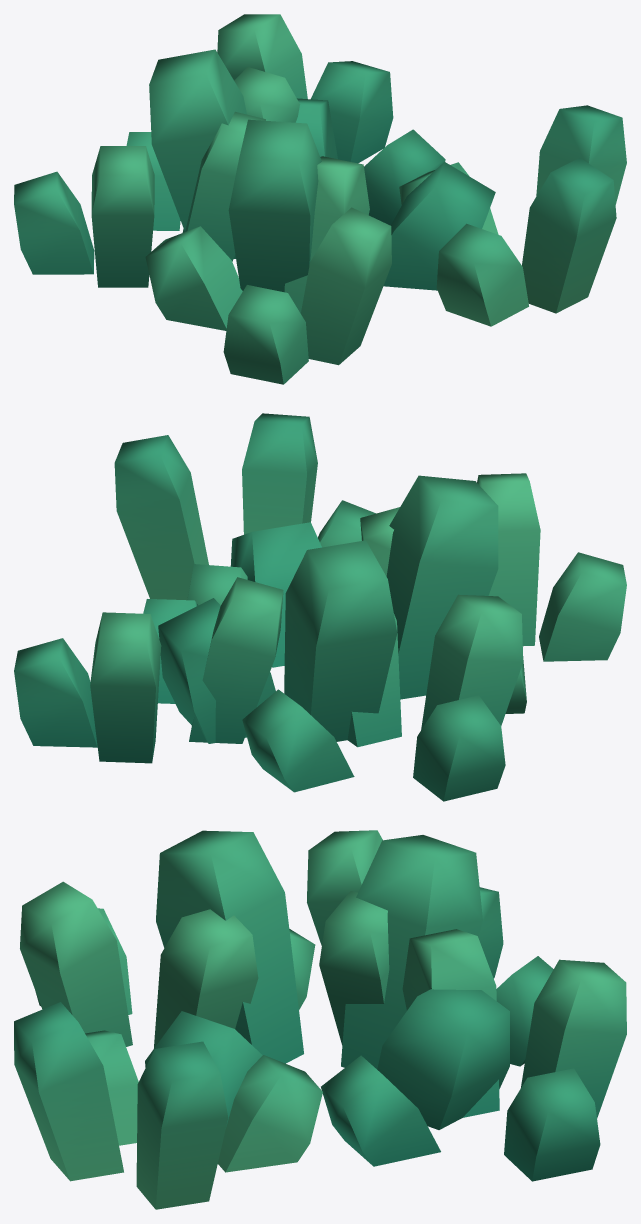
File: cc0-grass-patch-lod0.glb
The picture shows the model from 3 angles, top to bottom: view 1: azimuth 30°, elevation 25°; view 2: azimuth 150°, elevation 25°; view 3: azimuth 270°, elevation 25°; orthographic projection. The views are drawn at different scales.
Parts seen in each view (by area): view 1: part_0; view 2: part_0; view 3: part_0.
Boxes of the visible parts, left/top/right/bottom form: part_0: left=14, top=14, right=626, bottom=384; part_0: left=14, top=413, right=626, bottom=801; part_0: left=14, top=830, right=626, bottom=1209.
Bounding box in the file's own units: 1.31 × 0.4709 × 1.27.
Materials: 1 (1 with a texture image).
